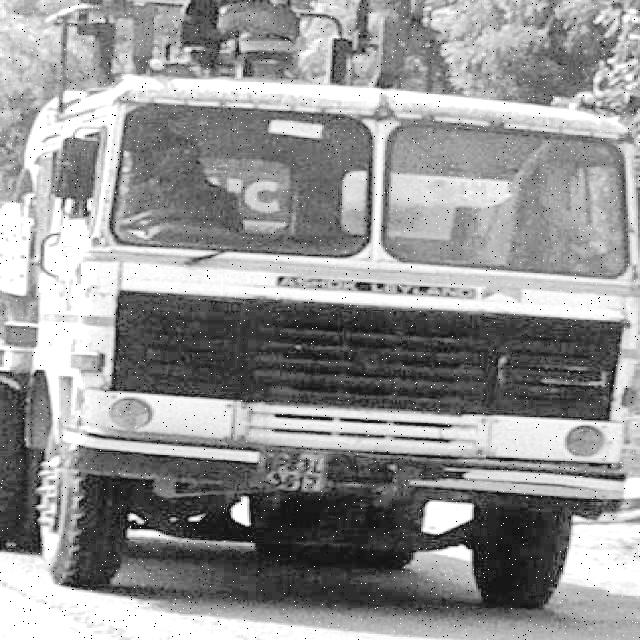HCV: (23, 78, 625, 605)
